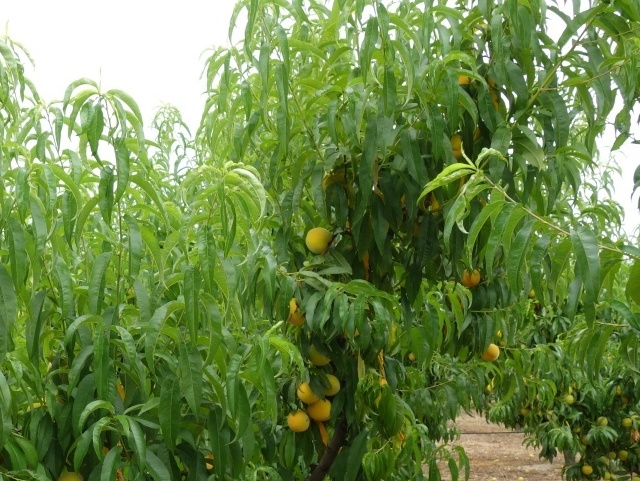peach: (301, 221, 339, 260), (281, 288, 311, 337), (307, 335, 339, 375), (310, 365, 345, 400), (294, 372, 325, 408), (306, 393, 338, 424), (281, 402, 311, 433), (458, 260, 486, 291), (478, 337, 505, 365)
